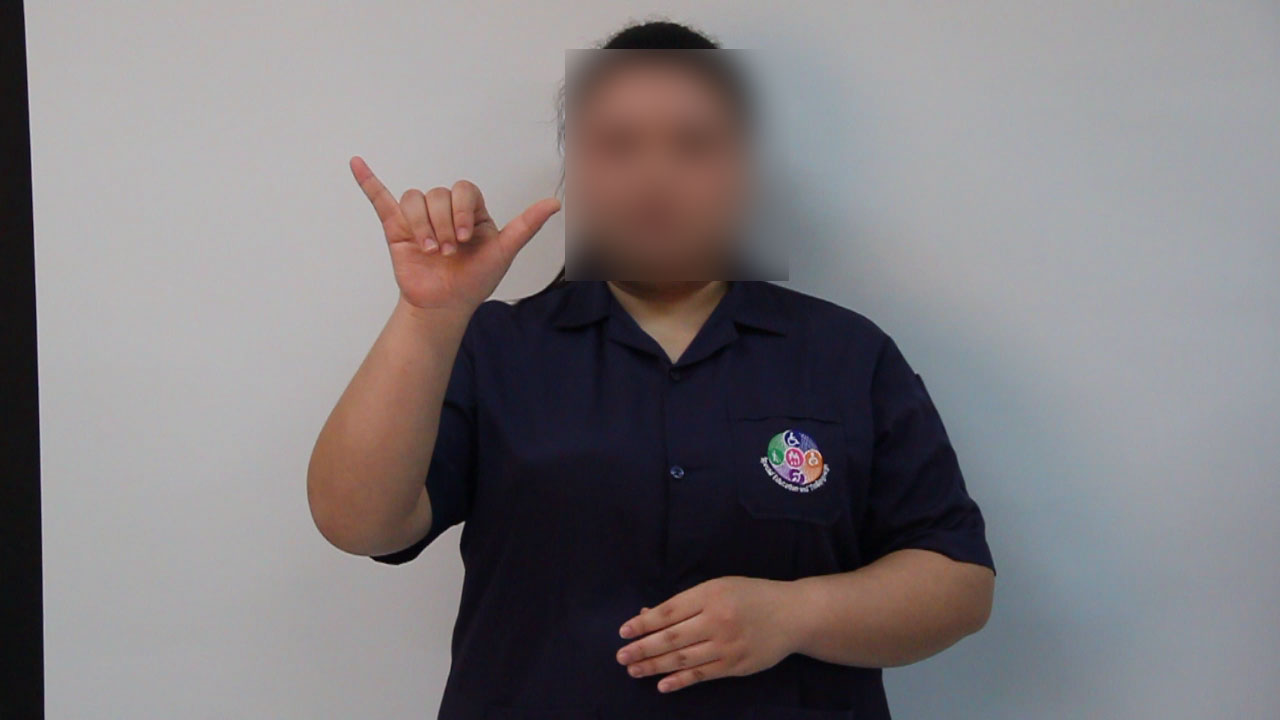yor: (327, 147, 572, 332)
